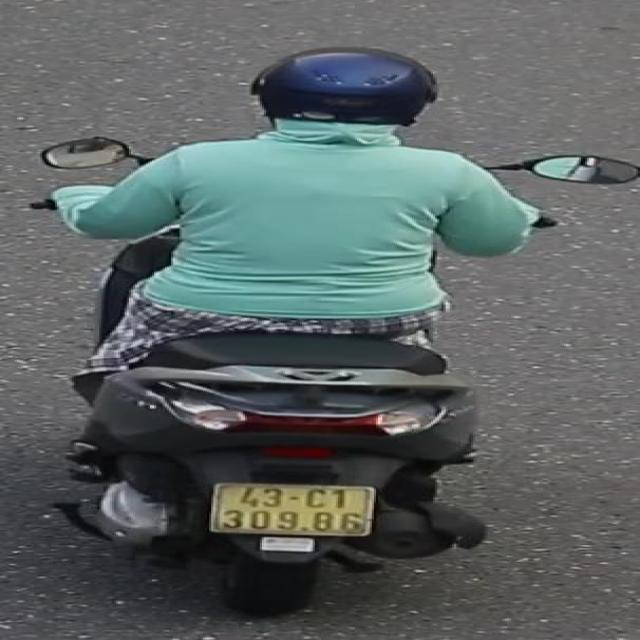LP: (204, 476, 381, 540)
helmet: (249, 41, 444, 152)
